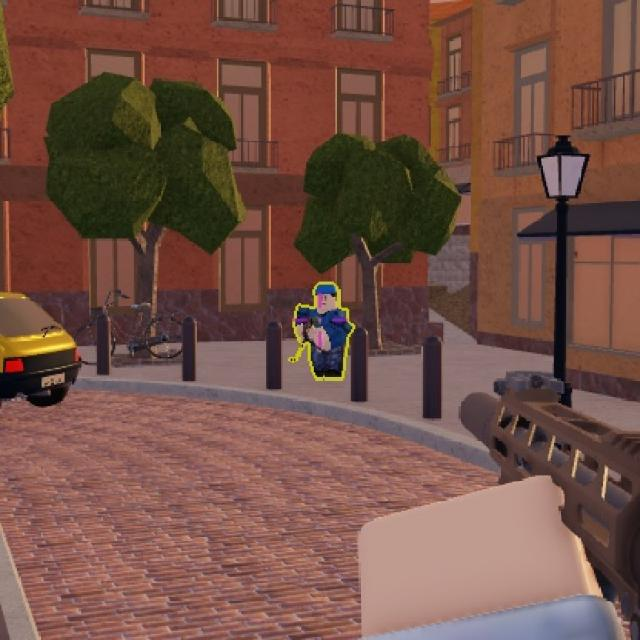player: (304, 279, 351, 383)
